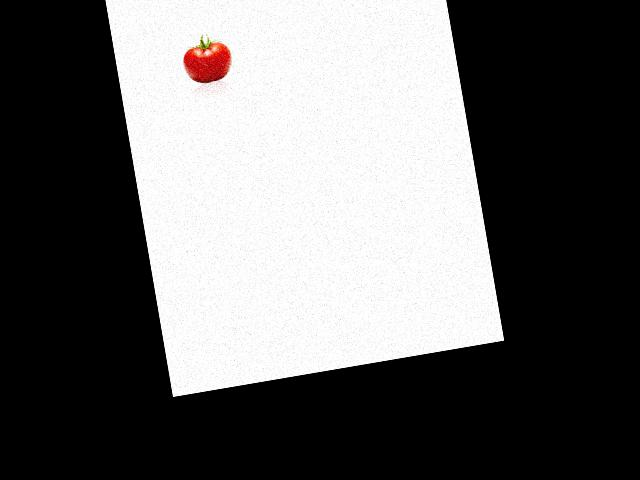tomato: (180, 40, 235, 86)
